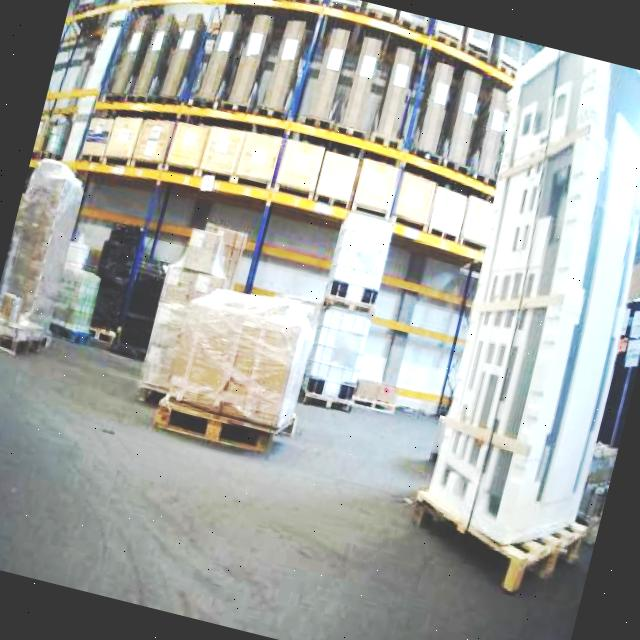ground: (0, 300, 616, 640)
pallet: (393, 41, 640, 605), (36, 68, 504, 265), (151, 272, 325, 461), (399, 483, 589, 607), (134, 214, 250, 415), (568, 251, 640, 547), (0, 153, 95, 363), (152, 393, 280, 457), (572, 437, 619, 544), (0, 310, 54, 362), (352, 376, 402, 413)
